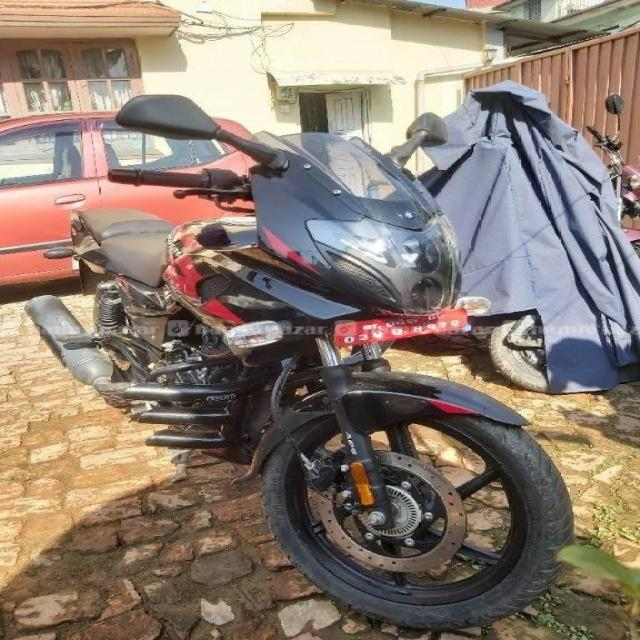License-plate: (324, 312, 500, 346)
